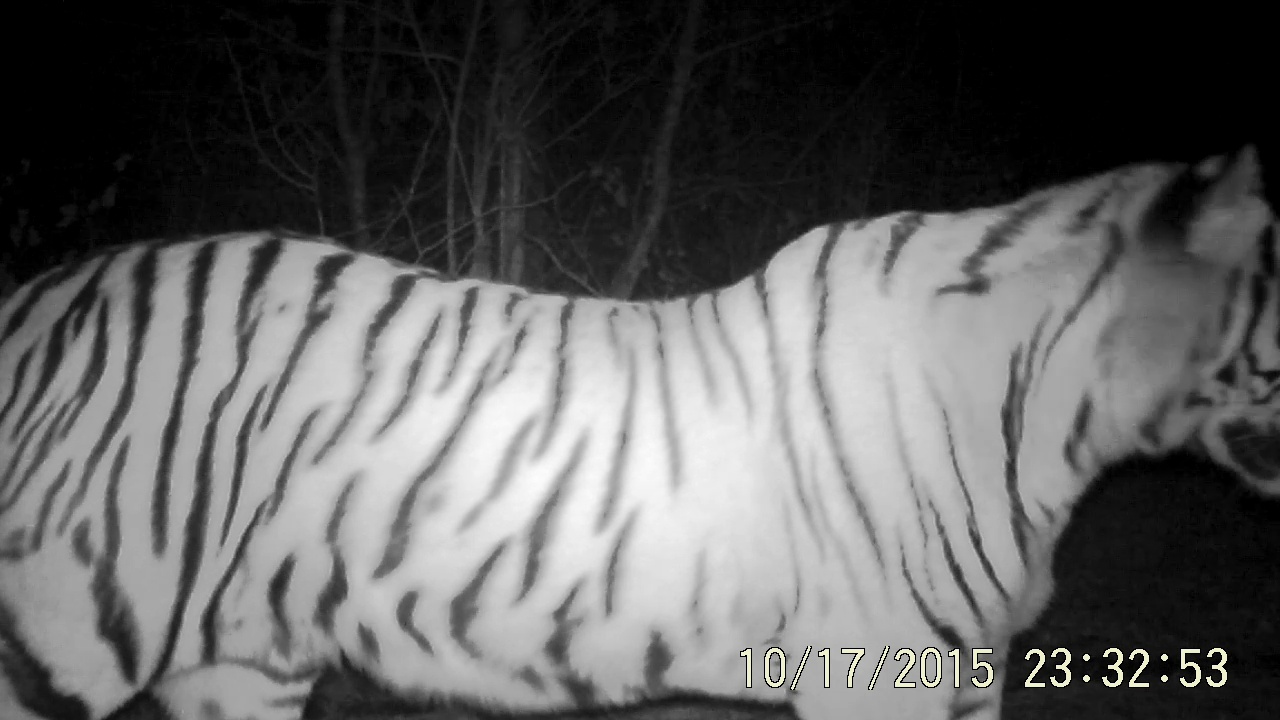Tiger: (5, 11, 1280, 720)
